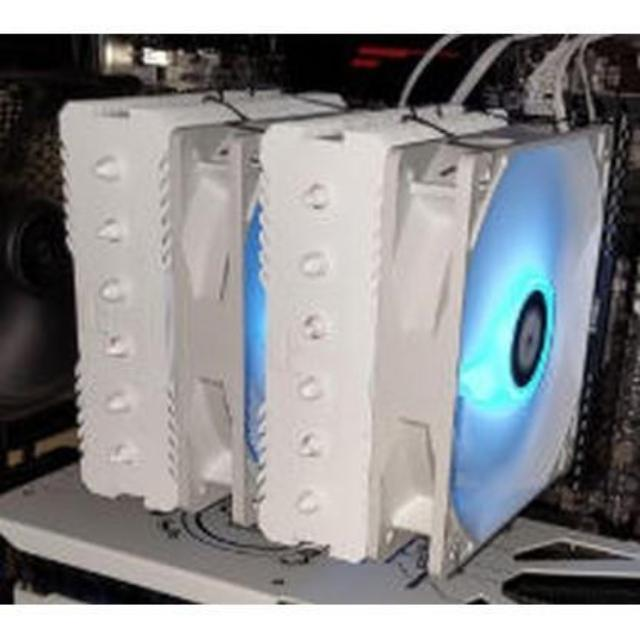CPU_Fan: (66, 90, 588, 556)
